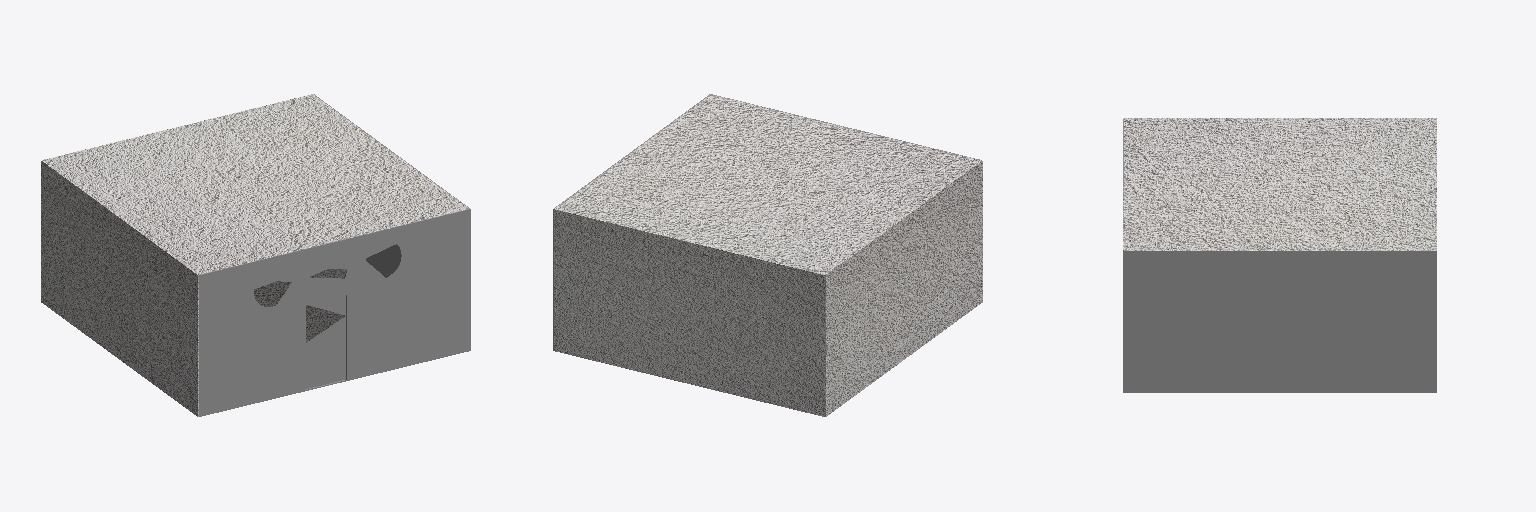
The picture shows the model from 3 angles: view 1: azimuth 30°, elevation 25°; view 2: azimuth 150°, elevation 25°; view 3: azimuth 270°, elevation 25°; orthographic projection.
Visible parts, largest first — view 1: Plane, pared_Cube.003, Cube.001, Cube.002_Cube.005, Cube.000_Cube.002, Cube.004_Cube.007; view 2: Plane, Cube.003_Cube.004, Cube.001; view 3: Cube.000_Cube.002, Plane.
Part boxes in pixels (left/top/right/bottom): Plane: left=42, top=94, right=468, bottom=274; pared_Cube.003: left=199, top=209, right=469, bottom=416; Cube.001: left=41, top=161, right=198, bottom=416; Cube.002_Cube.005: left=306, top=269, right=346, bottom=342; Cube.000_Cube.002: left=314, top=94, right=470, bottom=350; Cube.004_Cube.007: left=254, top=281, right=291, bottom=306; Plane: left=555, top=94, right=980, bottom=274; Cube.003_Cube.004: left=554, top=209, right=824, bottom=416; Cube.001: left=825, top=161, right=982, bottom=416; Cube.000_Cube.002: left=1123, top=251, right=1436, bottom=392; Plane: left=1123, top=119, right=1436, bottom=250.
Size of the model in its own units: 10.05 by 5.03 by 10.05.
Materials: 7 (1 with a texture image).